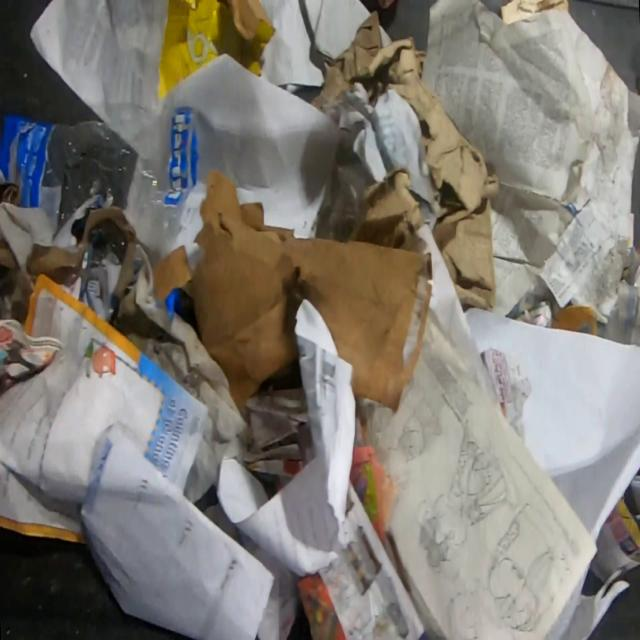cardboard: (309, 7, 501, 312), (155, 0, 276, 101), (355, 166, 426, 250), (550, 303, 598, 336)
soft_plastic: (0, 105, 201, 262), (317, 152, 374, 241)
